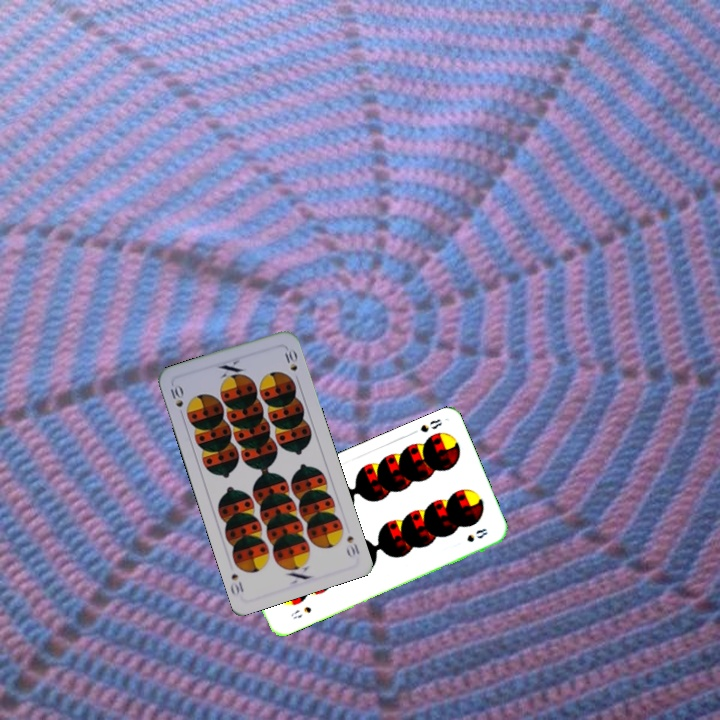S10: (165, 380, 186, 420), (342, 532, 362, 560)
S8: (416, 415, 445, 435), (286, 602, 314, 622)
